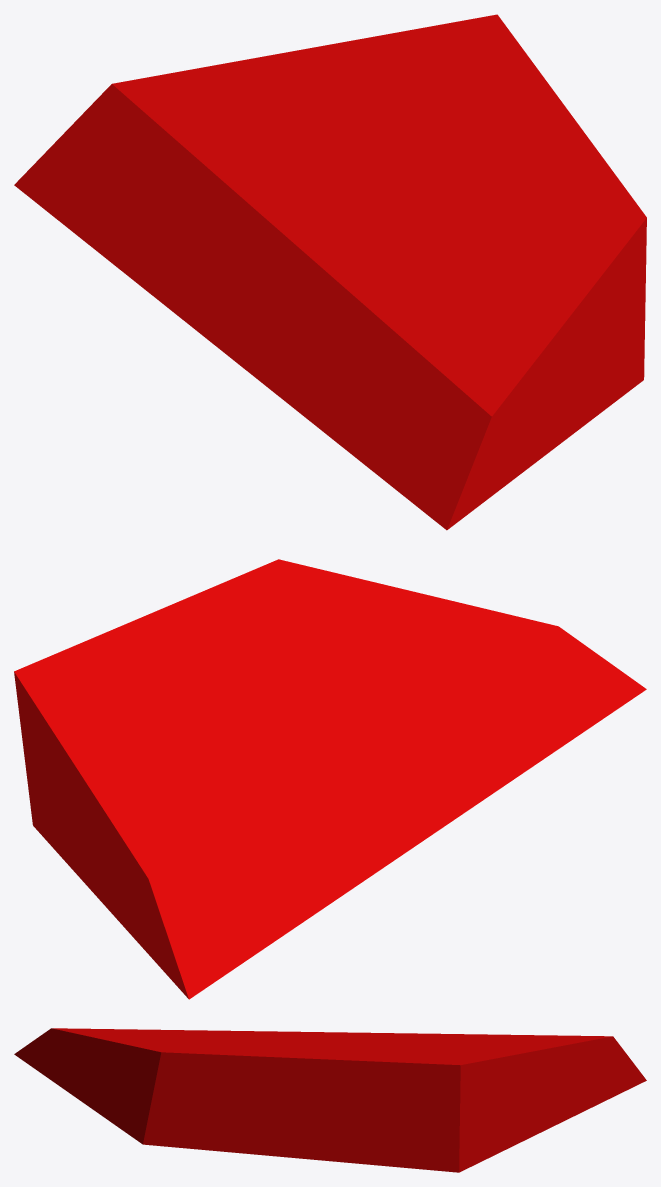
Rendered from SM_Env_RoadPiece_Damaged_11_Collision.fbx.
The picture shows the model from 3 angles, top to bottom: view 1: azimuth 30°, elevation 25°; view 2: azimuth 150°, elevation 25°; view 3: azimuth 270°, elevation 25°; orthographic projection. The views are drawn at different scales.
Visible parts, largest first — view 1: SM_Env_RoadPiece_Damaged_11_Collision; view 2: SM_Env_RoadPiece_Damaged_11_Collision; view 3: SM_Env_RoadPiece_Damaged_11_Collision.
Boxes of the visible parts, x1=… form: SM_Env_RoadPiece_Damaged_11_Collision: x1=14, y1=14, x2=646, y2=530; SM_Env_RoadPiece_Damaged_11_Collision: x1=14, y1=559, x2=646, y2=999; SM_Env_RoadPiece_Damaged_11_Collision: x1=14, y1=1028, x2=646, y2=1172.
Bounding box in the file's own units: 97.8 × 45.74 × 209.
